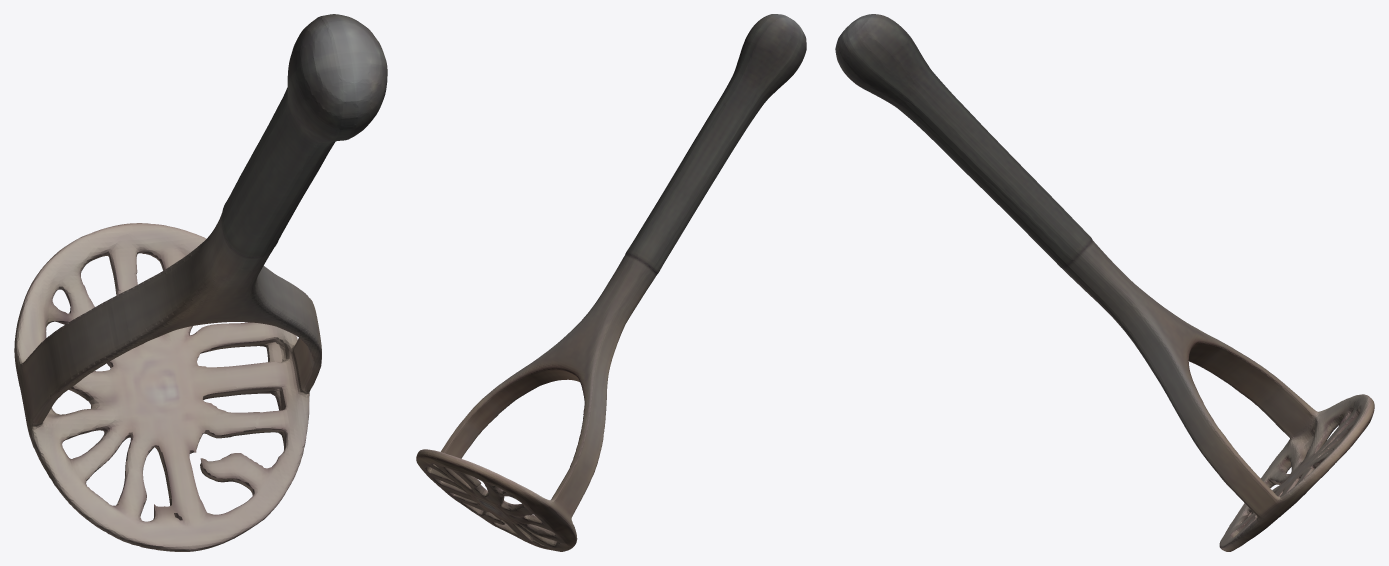
Rendered from frame_0062_source_000062_object.glb.
3 views of the same model, side by side, from view 1: azimuth 30°, elevation 25°; view 2: azimuth 150°, elevation 25°; view 3: azimuth 270°, elevation 25° (orthographic). The views are drawn at different scales.
Parts seen in each view (by area): view 1: world; view 2: world; view 3: world.
Part boxes in pixels (x1,y1,x2,y2): world: (14,14,387,551); world: (416,14,806,551); world: (835,14,1374,551).
Size of the model in its own units: 0.0931 by 0.2078 by 0.2109.
